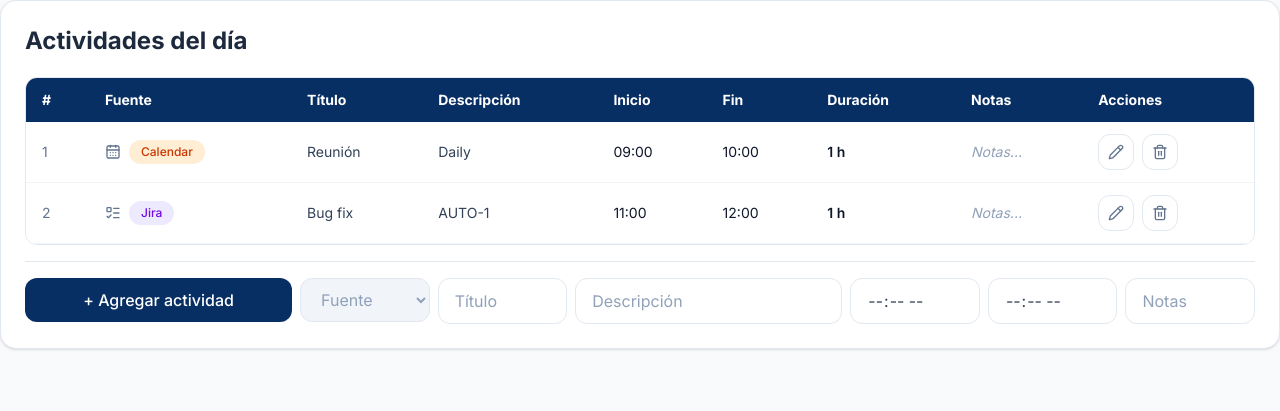
Test: ActivitiesTable › blocks adding when the form is invalid (no source, no start)
Click the button "+ Agregar actividad" at (159,300), box x1=25 y1=278 x2=292 y2=322
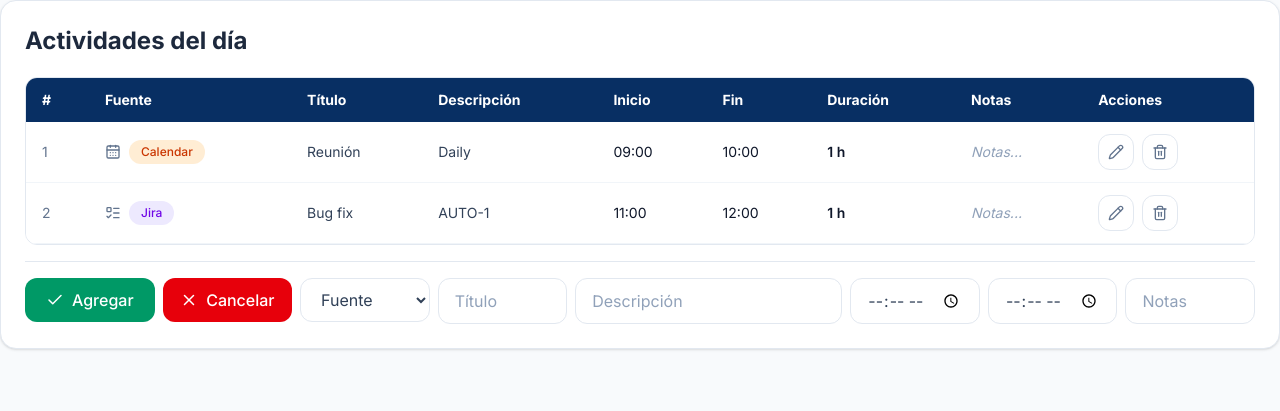
Click the button "Agregar" at (90,300), box x1=25 y1=278 x2=155 y2=322
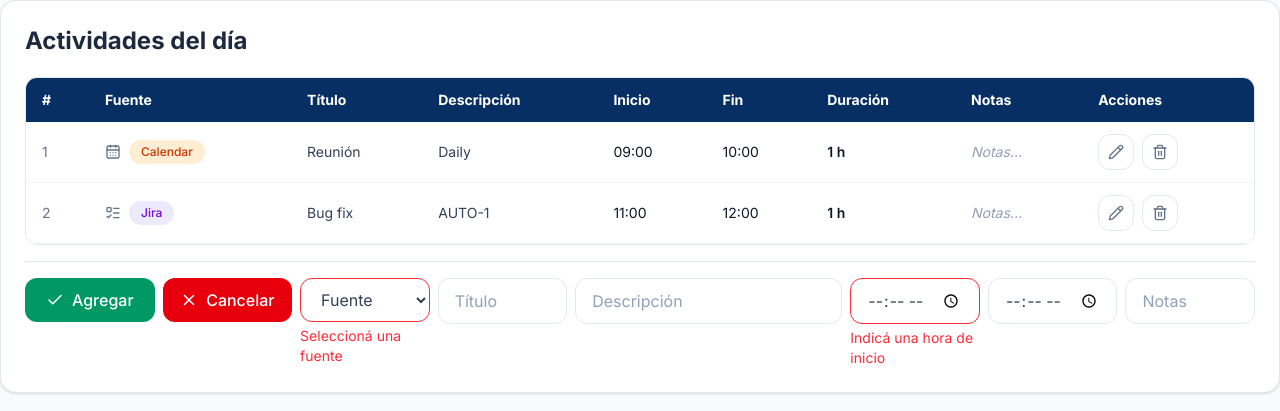
Check: the text "Seleccioná una fuente" is shown, box x1=300 y1=327 x2=401 y2=364
Check: the text "Indicá una hora de inicio" is shown, box x1=850 y1=328 x2=980 y2=368
